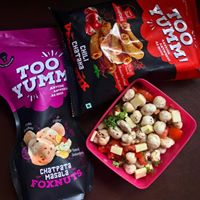plastic: (2, 33, 88, 200), (72, 1, 189, 112)
tooyumm: (149, 4, 199, 62), (10, 55, 74, 94)
wrapper: (3, 29, 66, 196), (69, 3, 197, 76)
